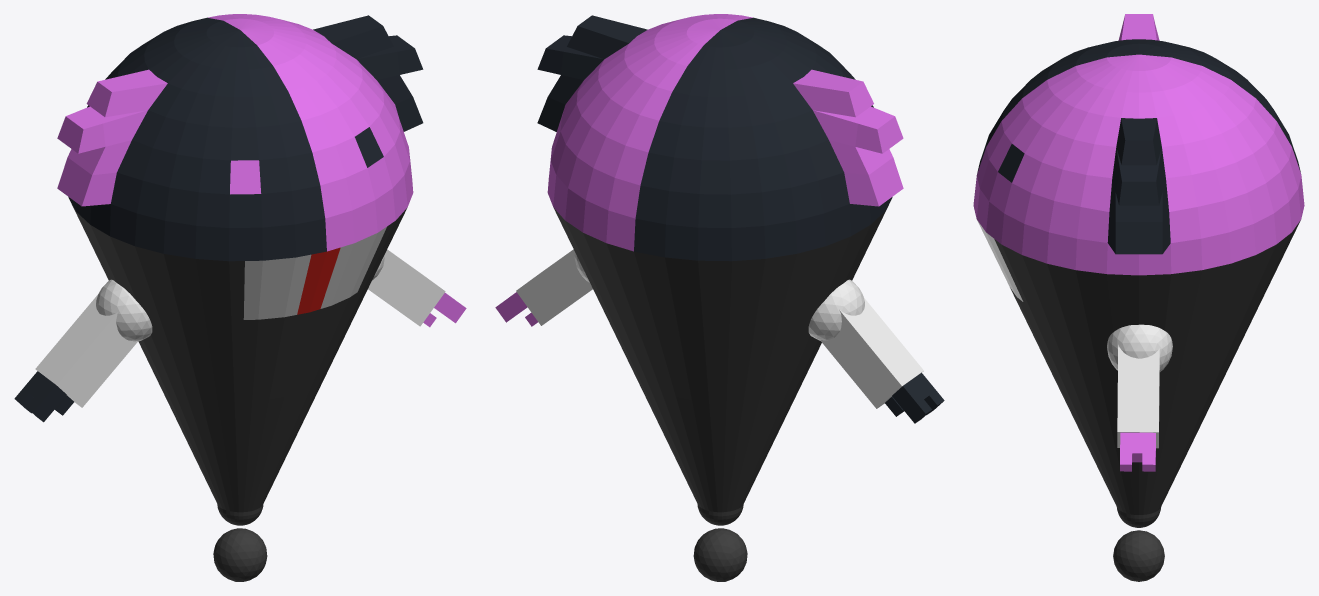
File: DimBot(Pinky).fbx
The picture shows the model from 3 angles, left to right: view 1: azimuth 30°, elevation 25°; view 2: azimuth 150°, elevation 25°; view 3: azimuth 270°, elevation 25°; orthographic projection. The views are drawn at different scales.
Parts seen in each view (by area): view 1: Cylinder.002; view 2: Cylinder.002; view 3: Cylinder.002.
Part boxes in pixels (<box>): Cylinder.002: <box>14,14,466,581</box>; Cylinder.002: <box>495,14,944,581</box>; Cylinder.002: <box>973,14,1304,581</box>.
Size of the model in its own units: 474 by 576 by 329.
